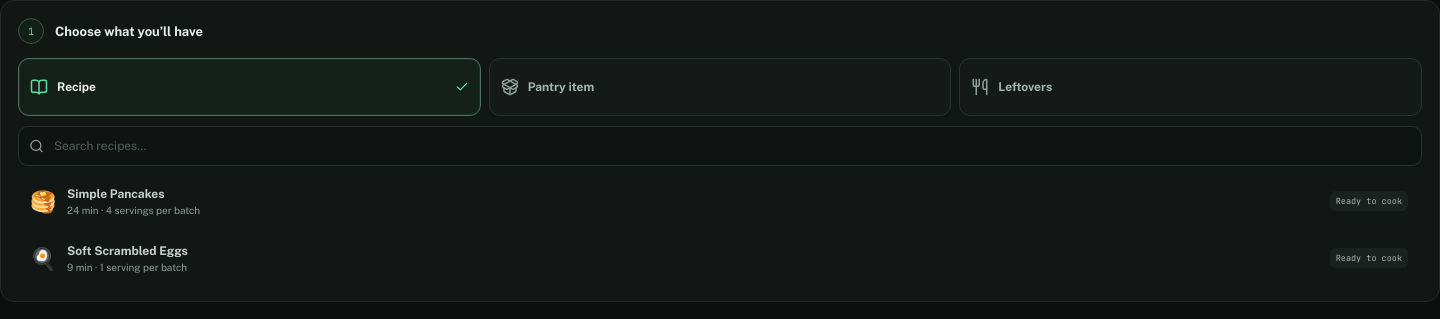
Scenario: leftover planning › labels an overdue preparation as planned and not cooked, retaining its scheduled date
Click the tab "Leftovers": (1025, 87) [959, 58, 1422, 116]
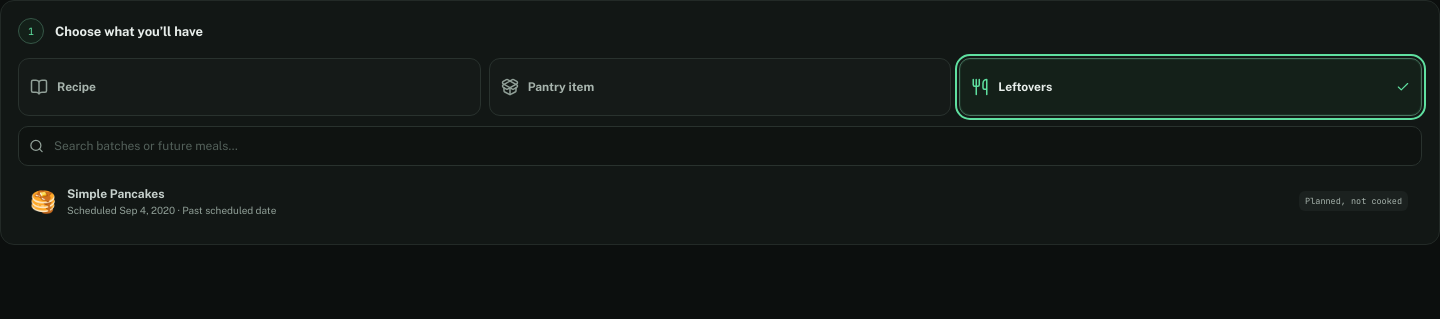
expect the option named "Planned, not cooked" shows "Scheduled Sep 4, 2020": met, box [18, 175, 1419, 227]
expect the option named "Planned, not cooked" shows "Past scheduled date": met, box [18, 175, 1419, 227]
expect the option named "Planned, not cooked" is enabled: met, box [18, 175, 1419, 227]
